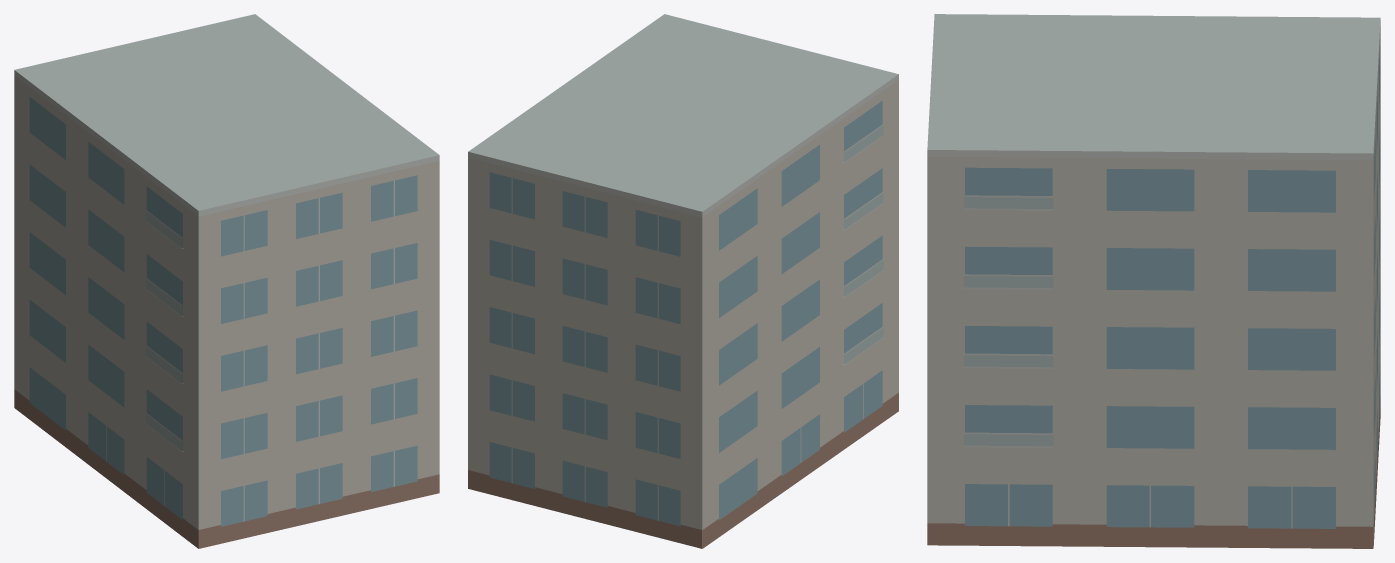
The model's file is survey-upis-32836124.glb.
3 renders of one model, left to right at view 1: azimuth 30°, elevation 25°; view 2: azimuth 150°, elevation 25°; view 3: azimuth 270°, elevation 25°, orthographic. The views are drawn at different scales.
Parts seen in each view (by area): view 1: survey-upis-32836124.tmp; view 2: survey-upis-32836124.tmp; view 3: survey-upis-32836124.tmp.
Part boxes in pixels (x1,y1,x2,y2): survey-upis-32836124.tmp: (14, 14, 439, 548); survey-upis-32836124.tmp: (468, 14, 898, 548); survey-upis-32836124.tmp: (927, 14, 1380, 548).
Size of the model in its own units: 10.91 by 14.4 by 14.97.
